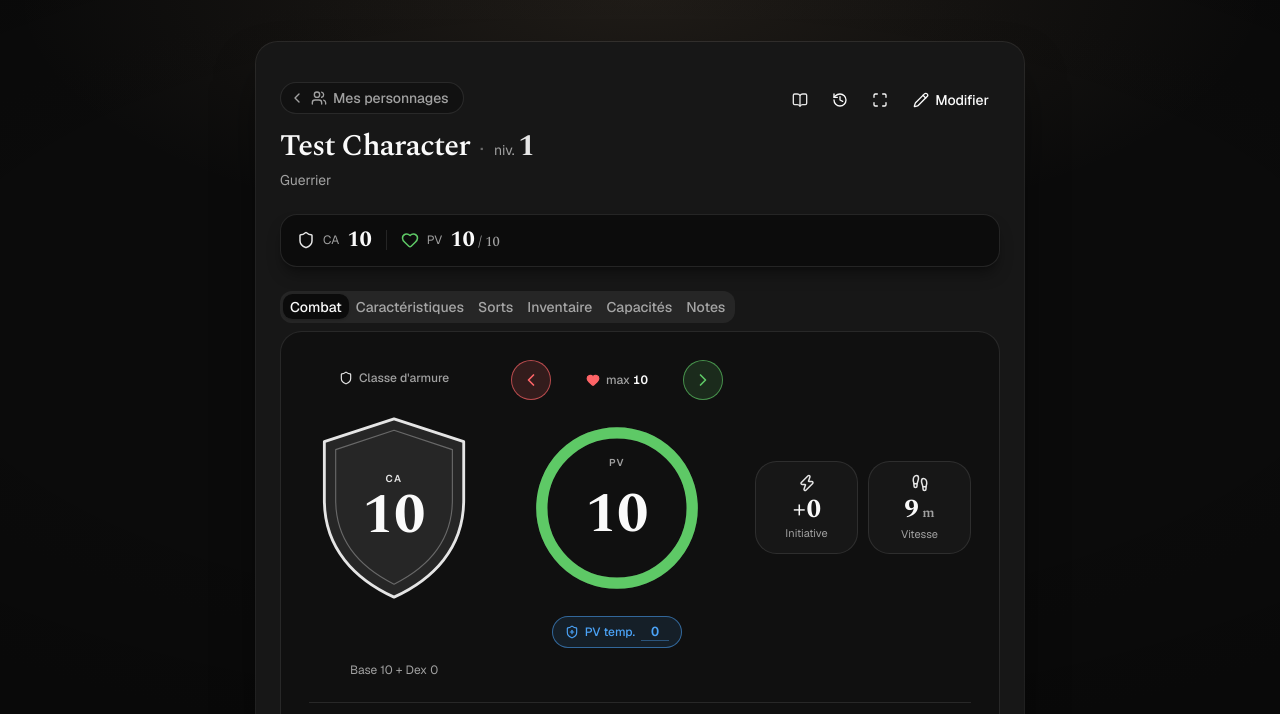
Scenario: CharacterPlay › lets the player adjust bag quantities and the purse from the Inventaire tab
Check: the heading "Test Character" is shown, box [280, 128, 470, 164]
Click the tab "Inventaire": [560, 307] box [520, 294, 599, 319]
(page scrolled)
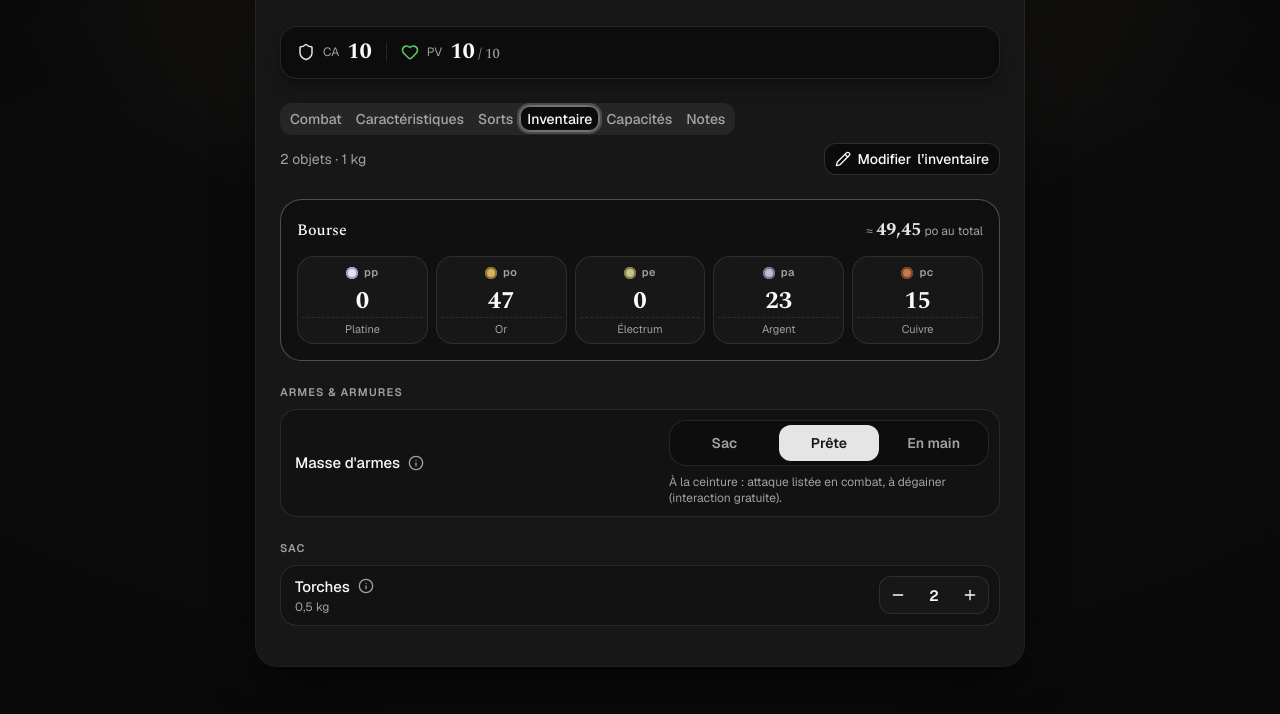
Check: the text "Masse d'armes" is shown, box [295, 453, 424, 472]
Check: the text "2 objets · 1 kg" is shown, box [280, 149, 366, 169]
Click the button named "Ajouter 1 Torches": [970, 595] box [952, 577, 988, 613]
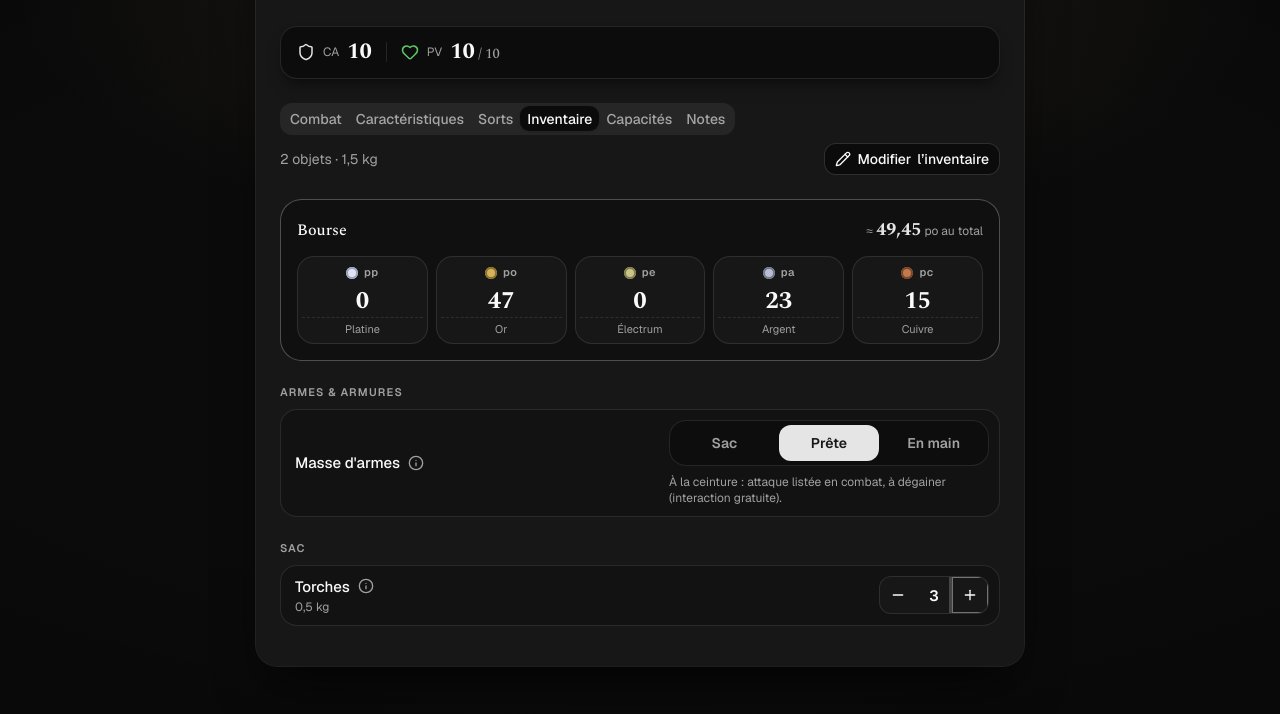
Check: the text "49,45" is shown, box [876, 216, 921, 243]
Check: the text "2 objets · 1,5 kg" is shown, box [280, 149, 378, 169]
Replace the text in the number field labelled "Or" with "50": [501, 301] box [441, 284, 562, 318]
Then press Enter
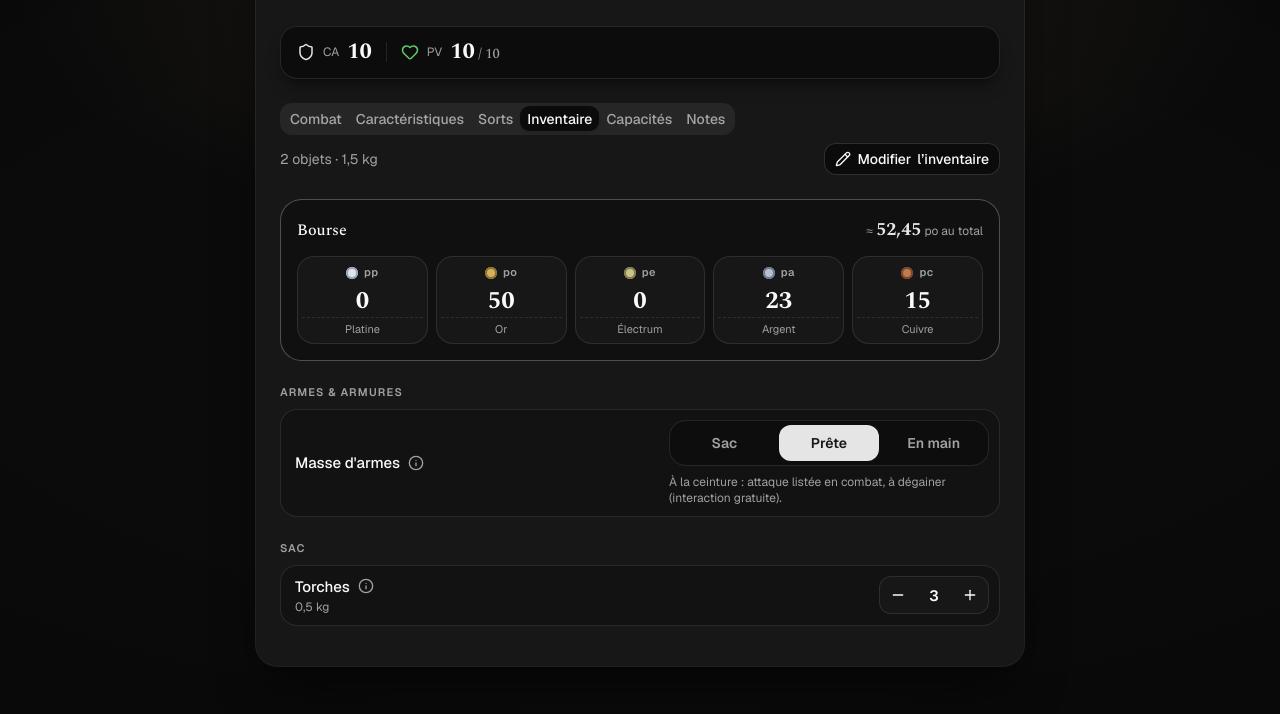
Check: the text "52,45" is shown, box [876, 216, 921, 243]
